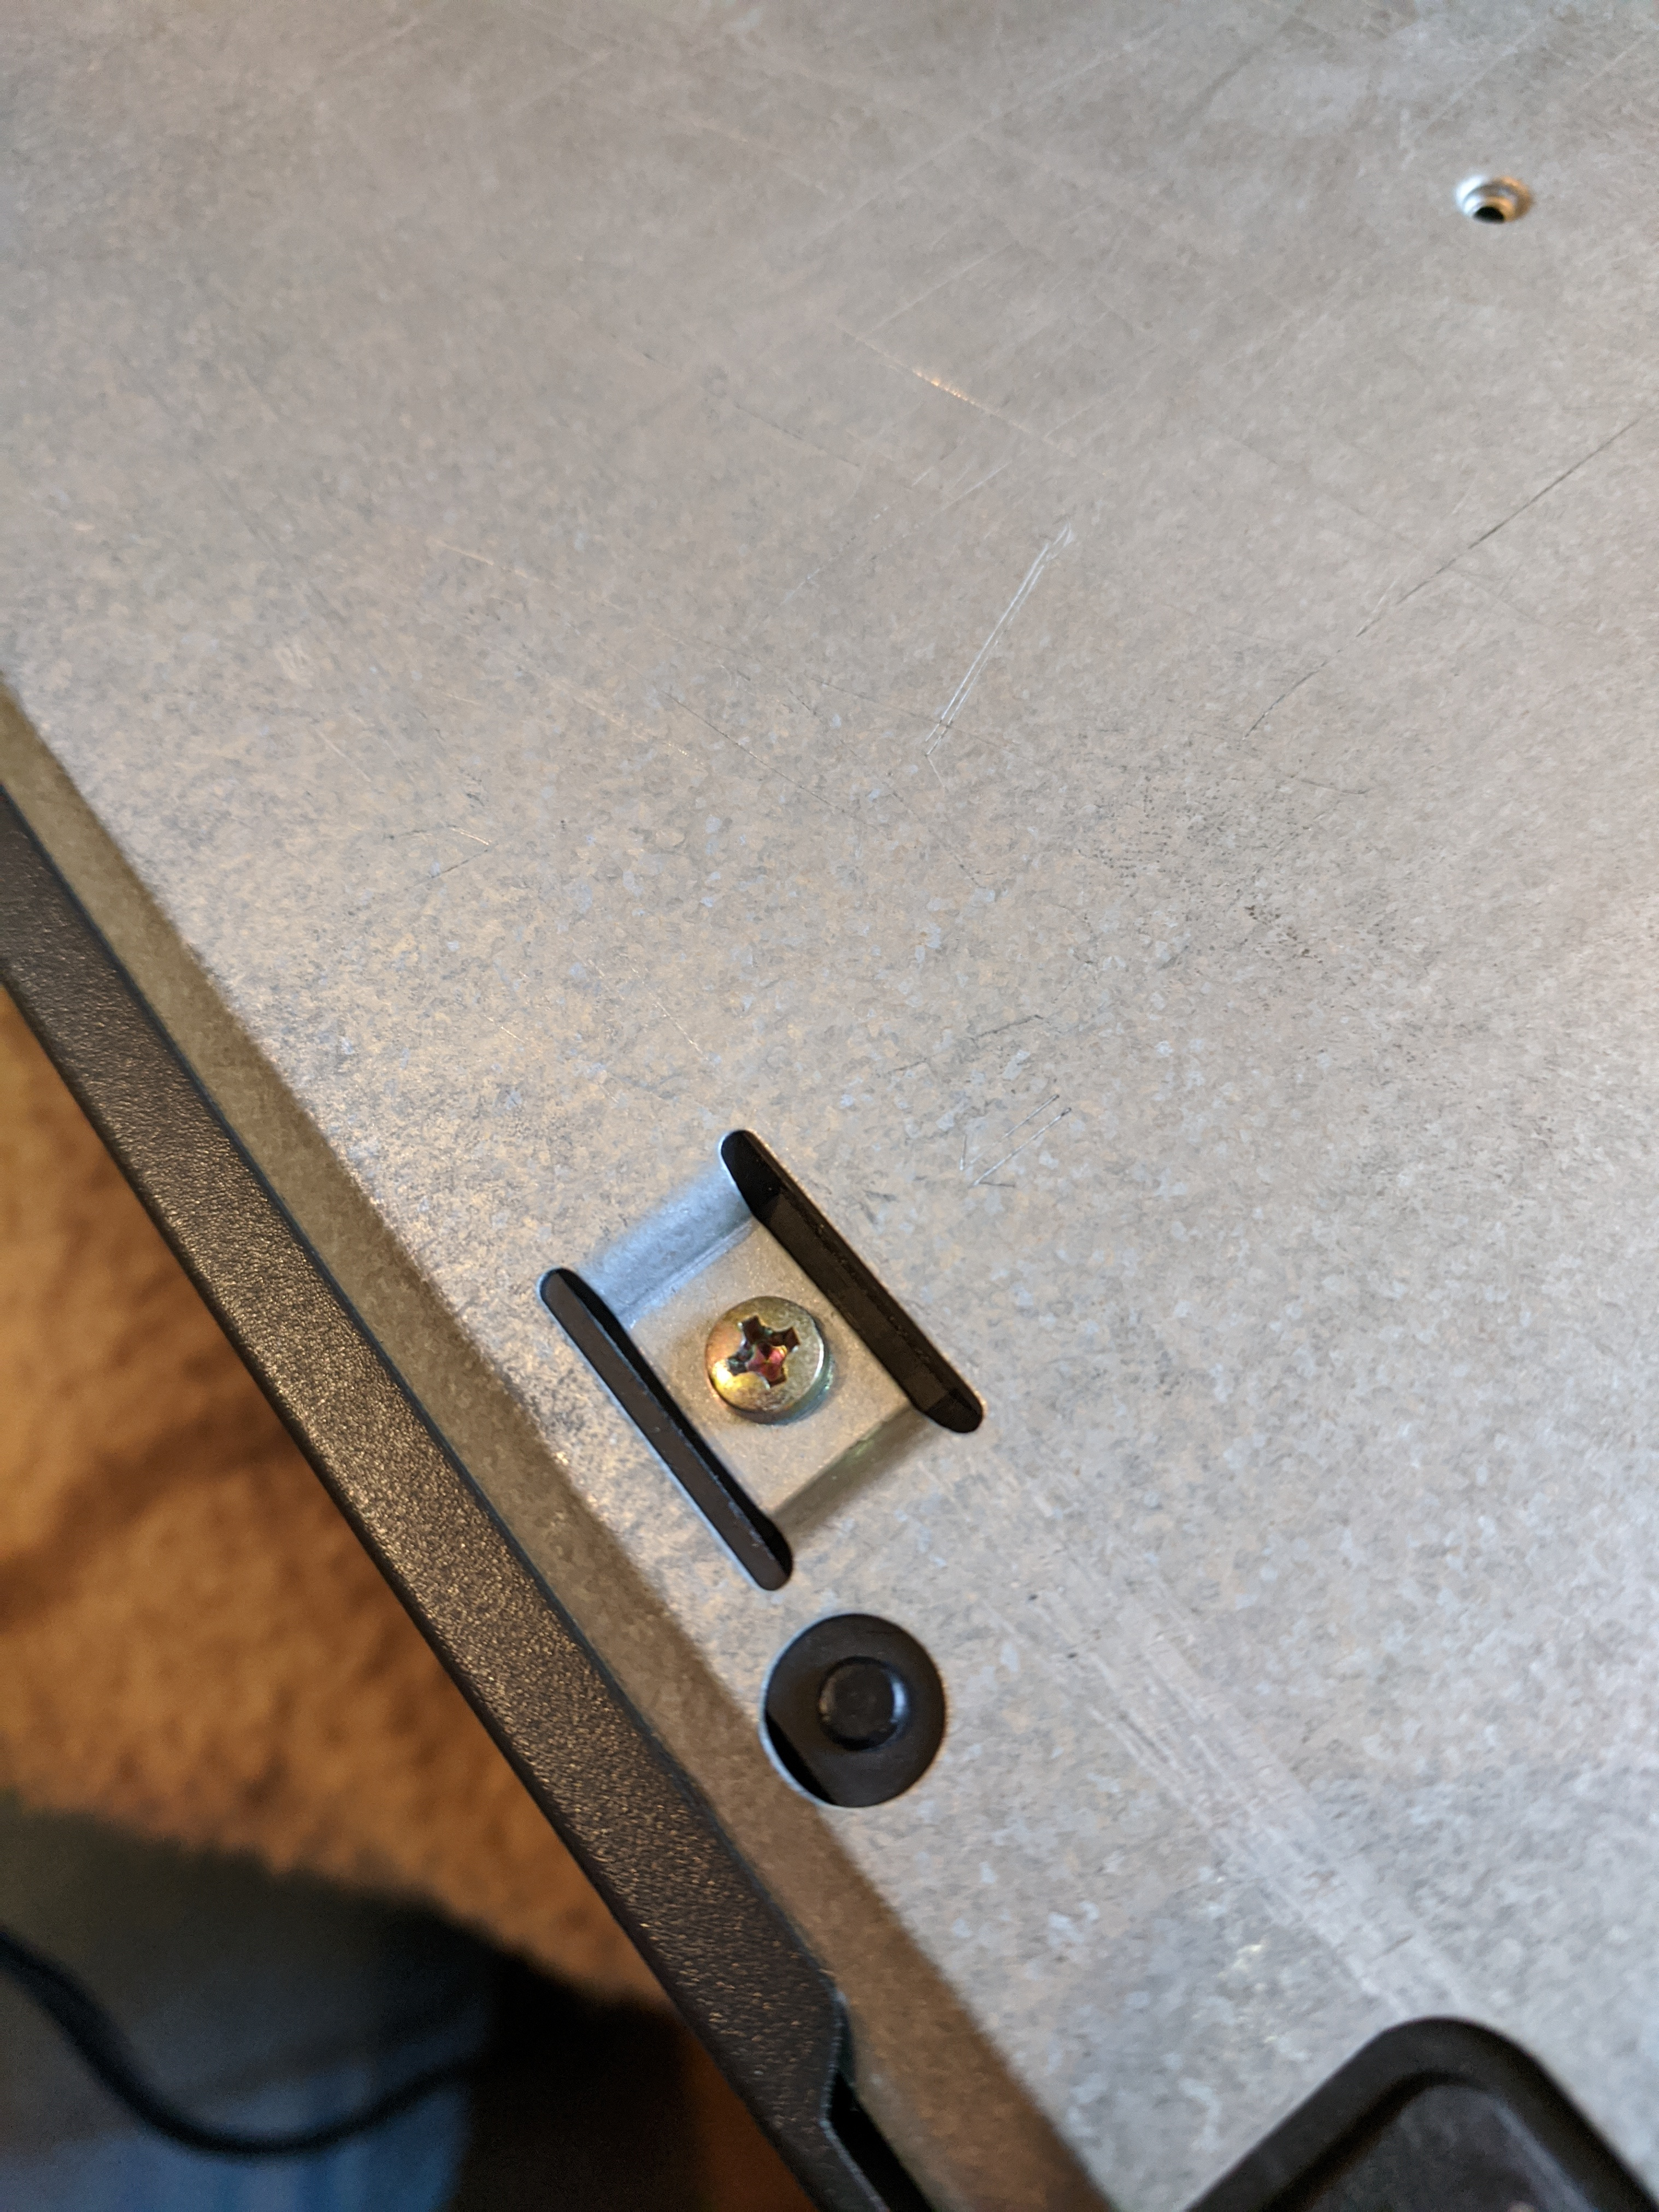cross_recessed_screw: (690, 1284, 831, 1418)
